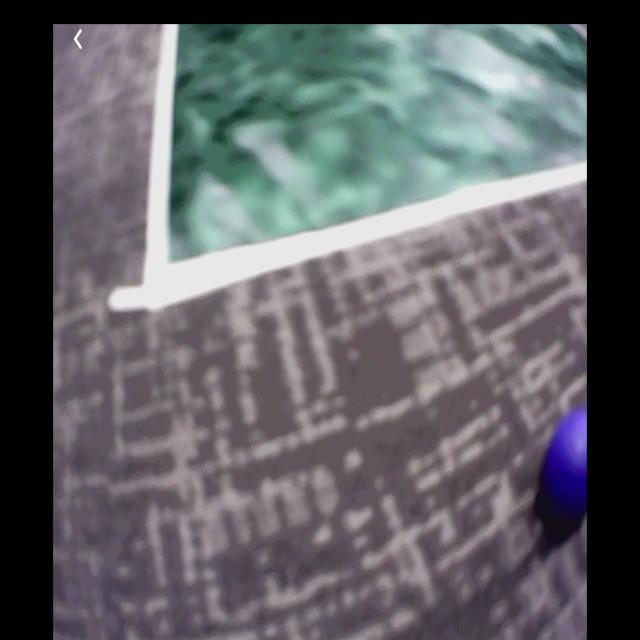ball: (539, 407, 586, 528)
